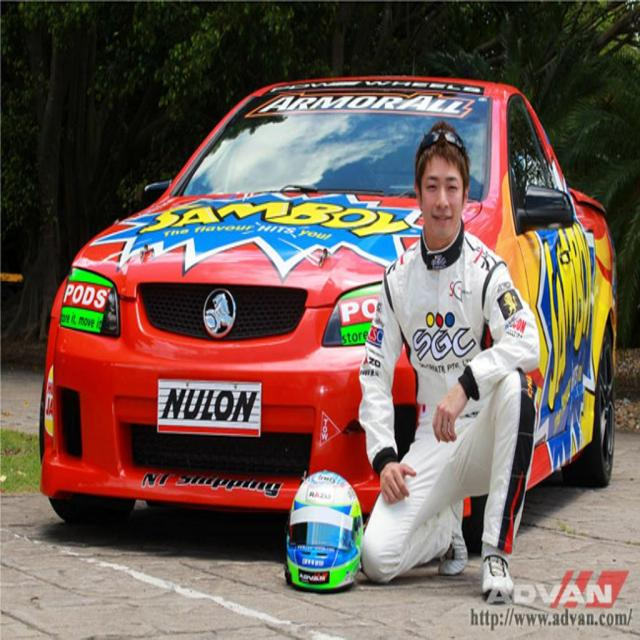nomask: (420, 156, 464, 239)
